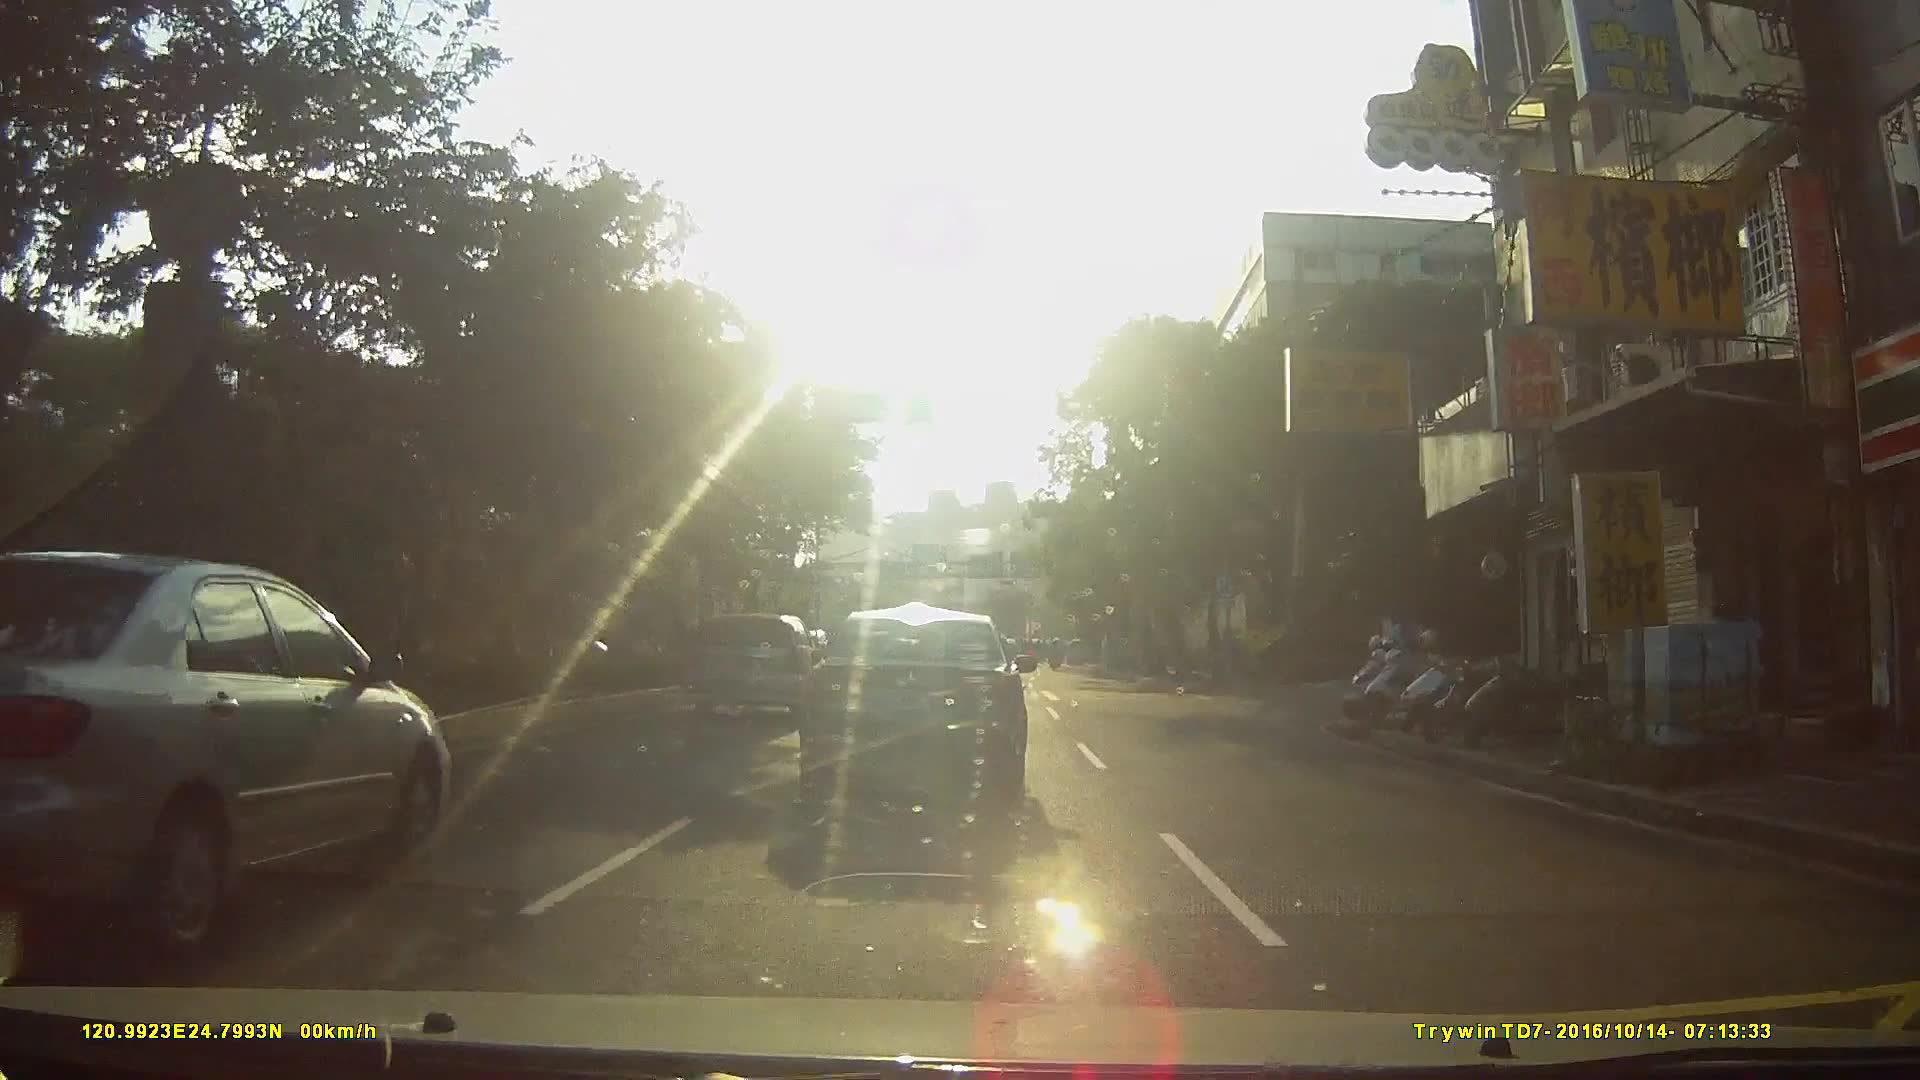pedestrian: (1702, 587, 1768, 741)
vehicle: (0, 550, 476, 945), (808, 603, 1052, 816), (694, 611, 824, 720), (1064, 635, 1097, 665)
